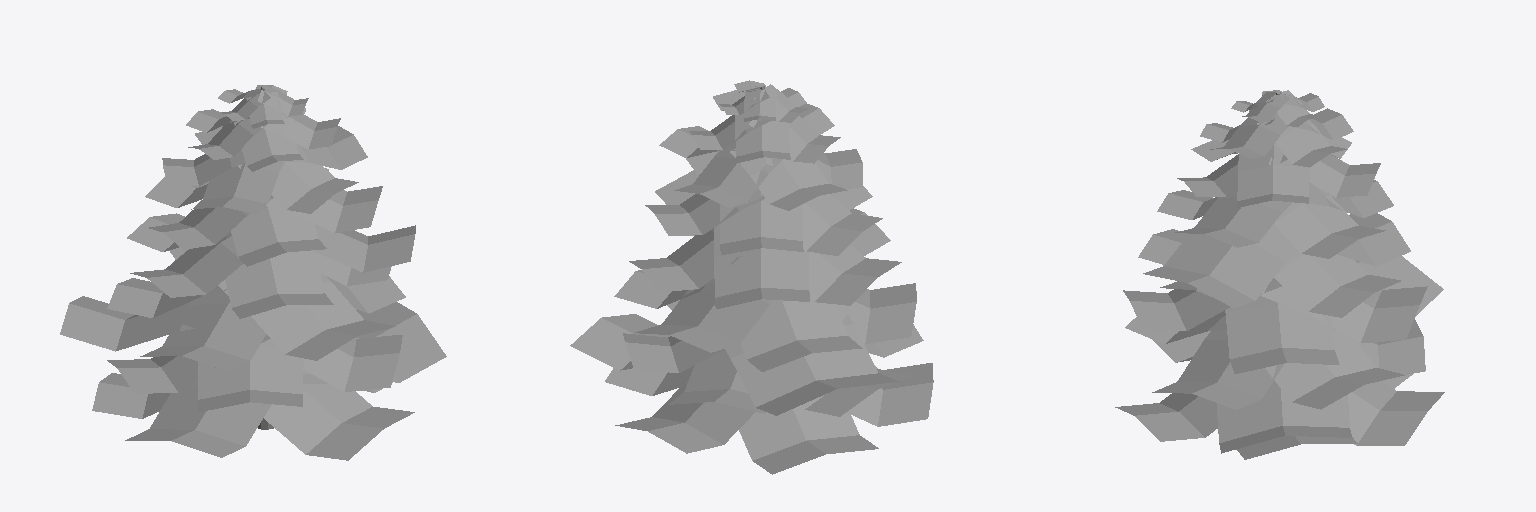
Rendered from Pine_1.obj.
3 renders of one model, left to right at view 1: azimuth 30°, elevation 25°; view 2: azimuth 150°, elevation 25°; view 3: azimuth 270°, elevation 25°, orthographic.
Visible parts, largest first — view 1: Pine_1; view 2: Pine_1; view 3: Pine_1.
Part boxes in pixels (left/top/right/bottom): Pine_1: left=60, top=85, right=446, bottom=460; Pine_1: left=570, top=80, right=933, bottom=474; Pine_1: left=1115, top=90, right=1444, bottom=459.
Size of the model in its own units: 7.73 by 7.58 by 6.76.